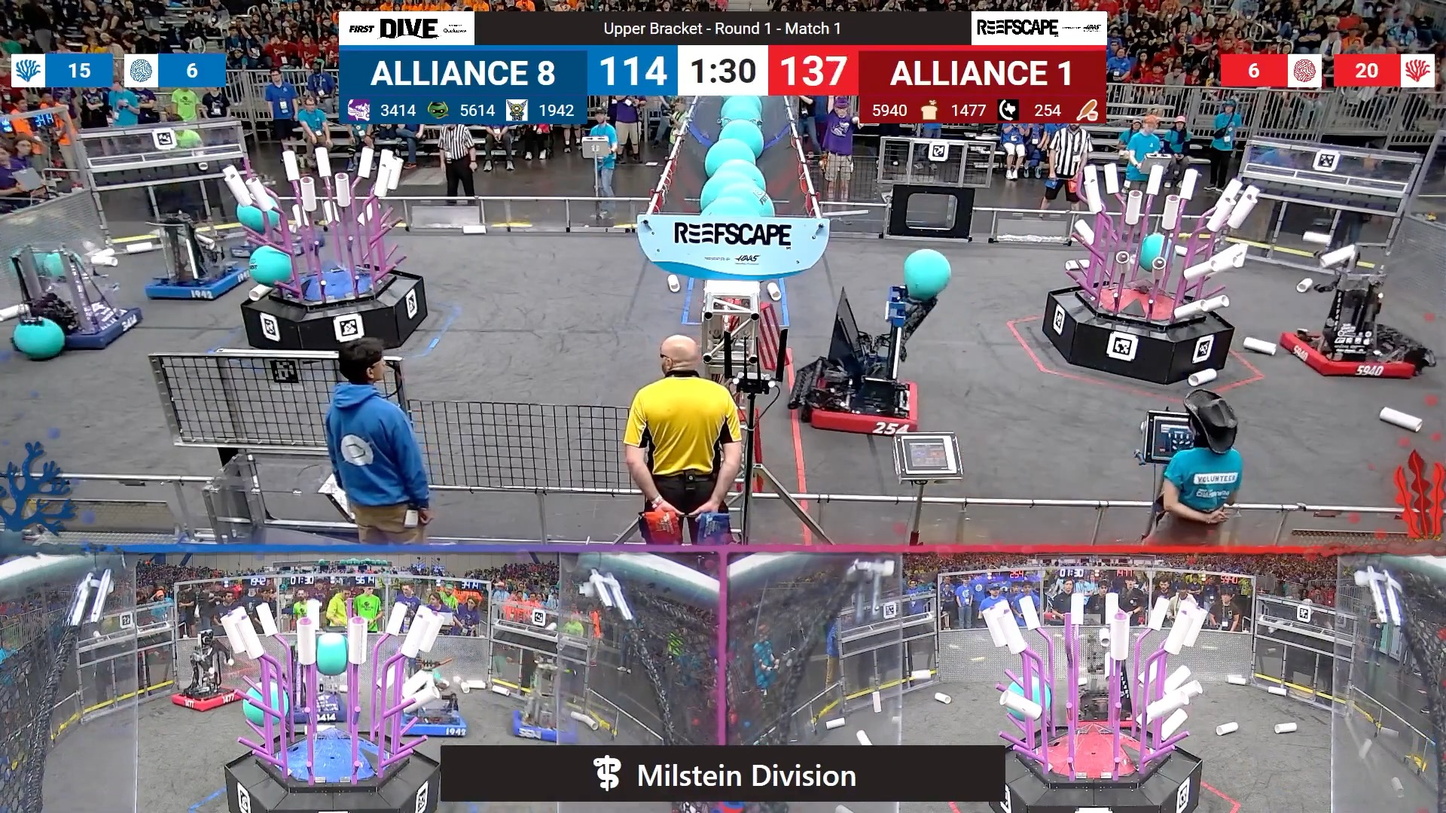bumpers: (1270, 324, 1425, 389), (788, 371, 927, 443), (10, 300, 153, 356), (143, 258, 263, 306), (507, 706, 582, 746), (400, 704, 475, 739), (170, 686, 252, 715)
